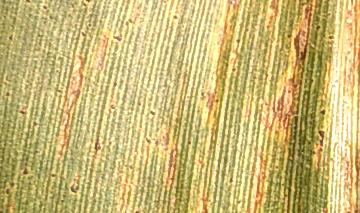tarspot: (67, 173, 83, 194), (316, 126, 326, 148), (112, 32, 125, 45), (92, 139, 103, 154), (16, 107, 30, 118), (5, 31, 16, 43), (40, 2, 51, 14), (109, 80, 120, 91), (284, 30, 294, 42), (229, 64, 239, 76), (232, 36, 245, 45), (324, 33, 337, 42), (211, 95, 224, 104), (20, 166, 30, 177), (185, 137, 195, 148), (198, 87, 208, 98), (146, 108, 158, 117), (313, 22, 322, 34), (144, 134, 153, 146), (57, 196, 69, 205), (224, 175, 237, 183), (318, 106, 327, 117), (48, 171, 59, 180), (5, 178, 16, 187), (171, 12, 180, 23), (30, 118, 39, 128), (78, 29, 87, 39), (4, 89, 11, 101), (3, 186, 11, 196), (133, 207, 143, 213), (82, 1, 96, 5)
